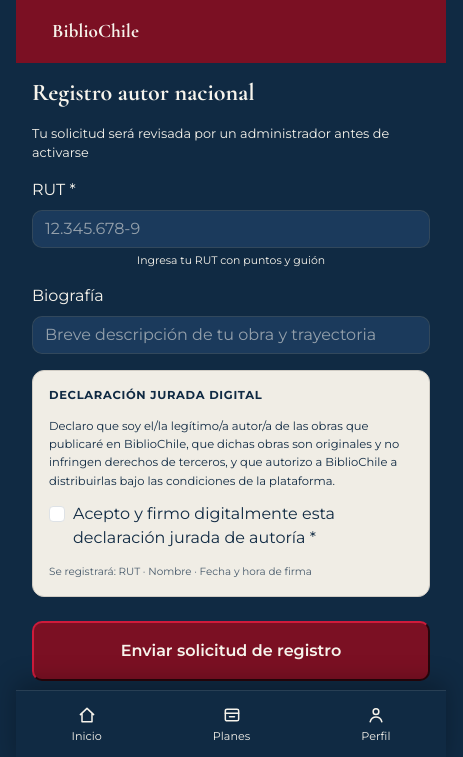
Test: RegistroAutor › muestra un mensaje visible junto al checkbox si se intenta enviar sin aceptar la declaración jurada
In the field labelled "RUT *": (231, 229) [32, 210, 430, 248], type "12.345.678-5"
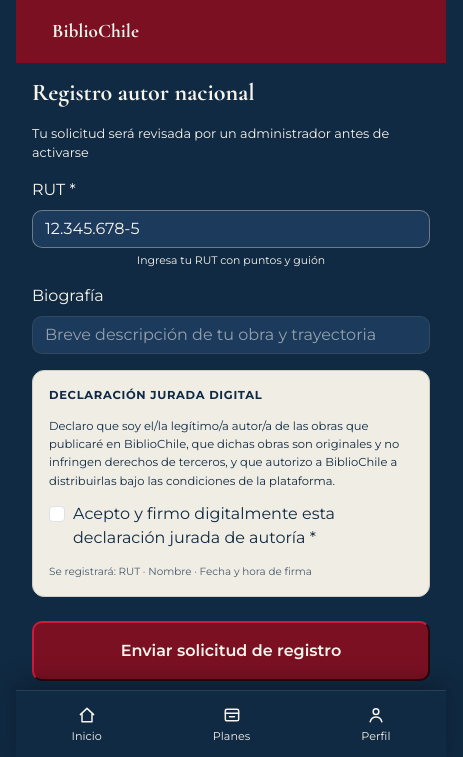
Click the button "Enviar solicitud de registro": (231, 651) [32, 621, 430, 681]
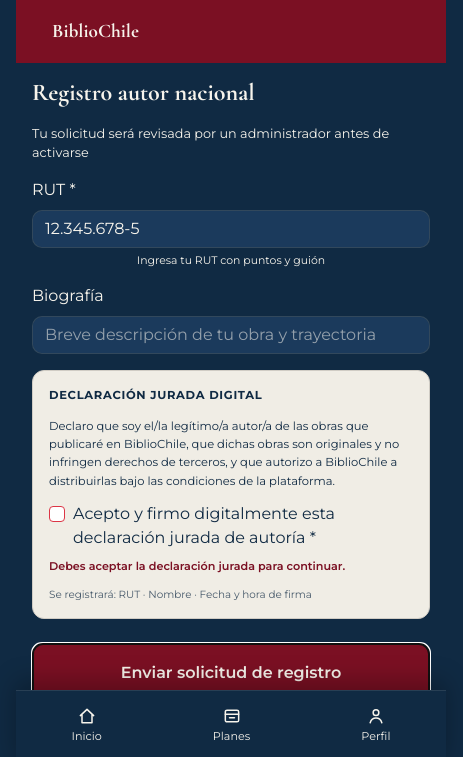
Now the text "Debes aceptar la declaración jurada para continuar." is shown, box [49, 559, 345, 573]
Click the checkbox: (57, 514) [49, 506, 65, 522]
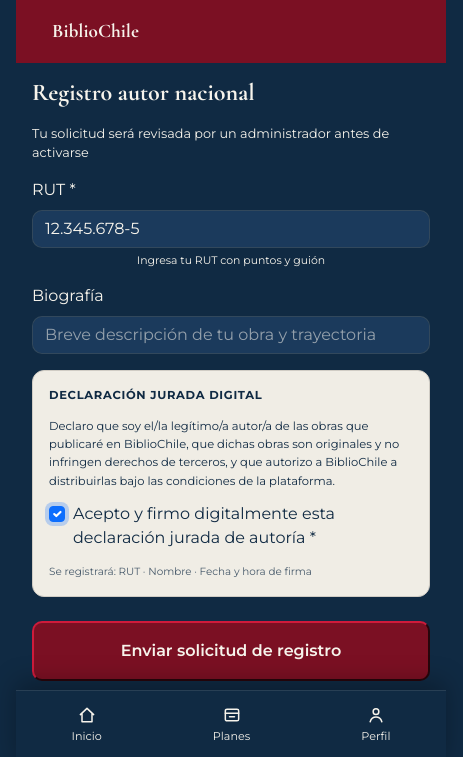
Now the text "Debes aceptar la declaración jurada" is gone
